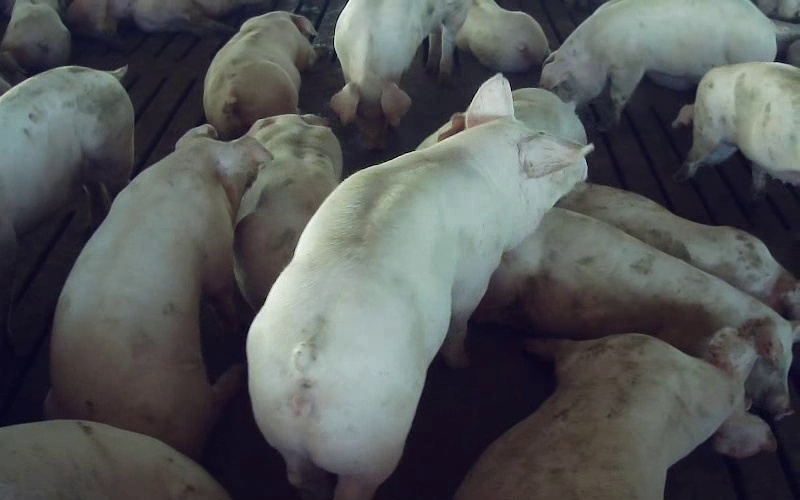pig: (247, 74, 588, 496), (49, 125, 269, 456), (474, 208, 799, 415), (457, 328, 773, 499), (0, 66, 133, 332), (557, 183, 799, 319), (540, 0, 776, 123), (235, 114, 342, 310), (673, 62, 799, 193), (203, 11, 315, 138)
